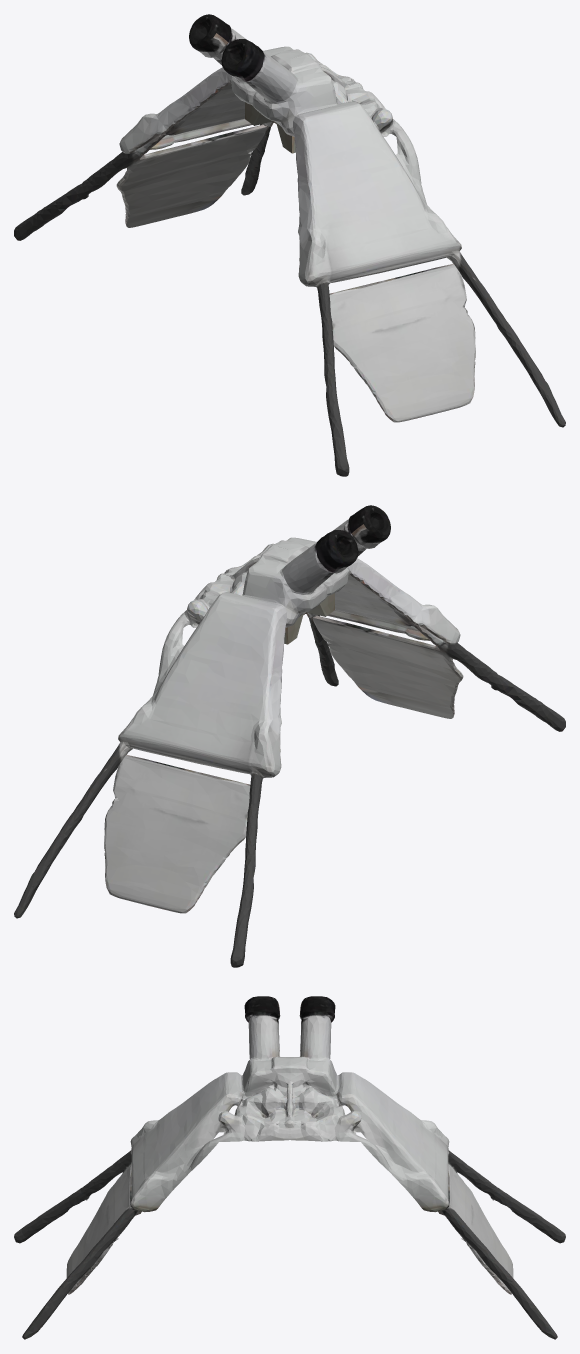
3 renders of one model, top to bottom at view 1: azimuth 30°, elevation 25°; view 2: azimuth 150°, elevation 25°; view 3: azimuth 270°, elevation 25°, orthographic. The views are drawn at different scales.
Parts seen in each view (by area): view 1: textured_mesh.obj; view 2: textured_mesh.obj; view 3: textured_mesh.obj.
Boxes of the visible parts, x1,y1,x2,y2 form: textured_mesh.obj: (14, 14, 565, 476); textured_mesh.obj: (14, 505, 565, 967); textured_mesh.obj: (14, 996, 565, 1339).
Size of the model in its own units: 0.7293 by 0.9807 by 1.8.
1 material, 1 textured.
